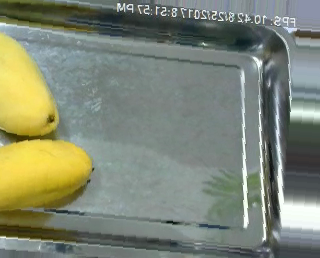Mango: (0, 139, 91, 211), (0, 32, 59, 137)
